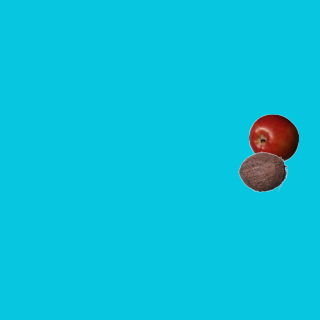Apple Braeburn: (248, 113, 298, 163)
Cocos: (237, 146, 287, 196)
